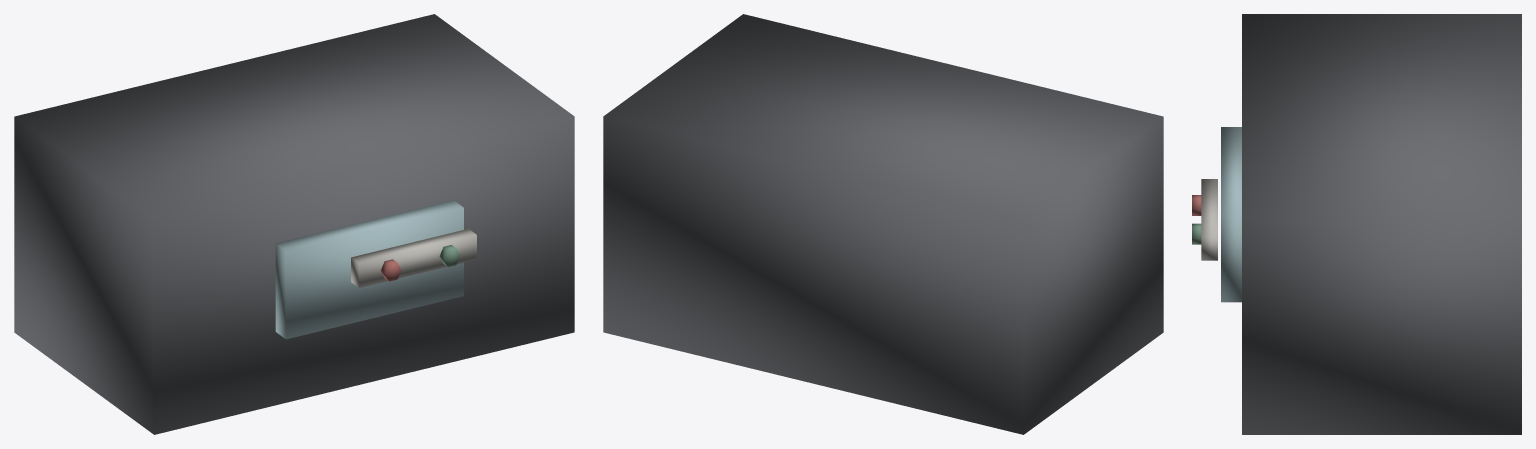
The model's file is cassette_deck__tall.glb.
3 views of the same model, side by side, from view 1: azimuth 30°, elevation 25°; view 2: azimuth 150°, elevation 25°; view 3: azimuth 270°, elevation 25° (orthographic).
Parts seen in each view (by area): view 1: world; view 2: world; view 3: world.
Part boxes in pixels (x1=…): world: x1=14, y1=14, x2=574, y2=434; world: x1=603, y1=14, x2=1163, y2=434; world: x1=1192, y1=14, x2=1521, y2=434.
Size of the model in its own units: 0.52 by 0.2552 by 0.3535.
